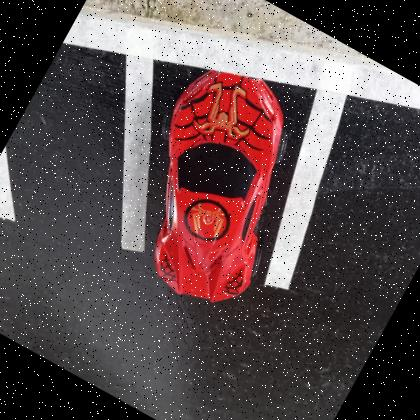Car: (154, 68, 285, 302)
